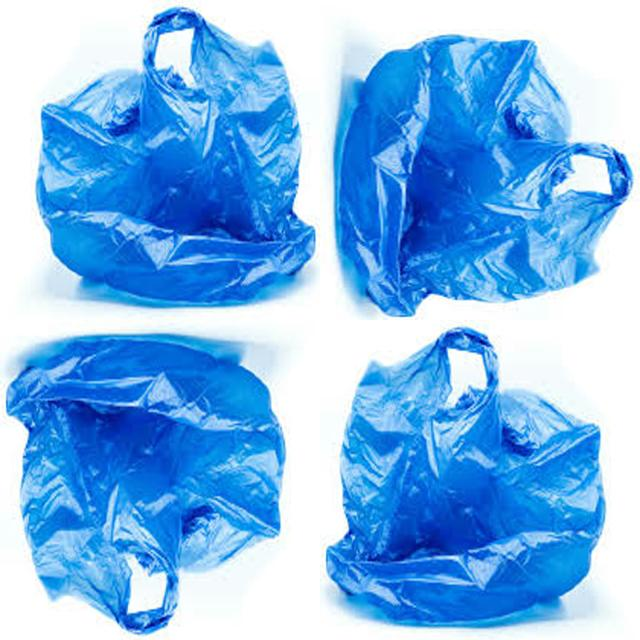Single-layer Plastic: (336, 36, 632, 316), (326, 328, 605, 624), (36, 8, 315, 303), (6, 336, 285, 631)
